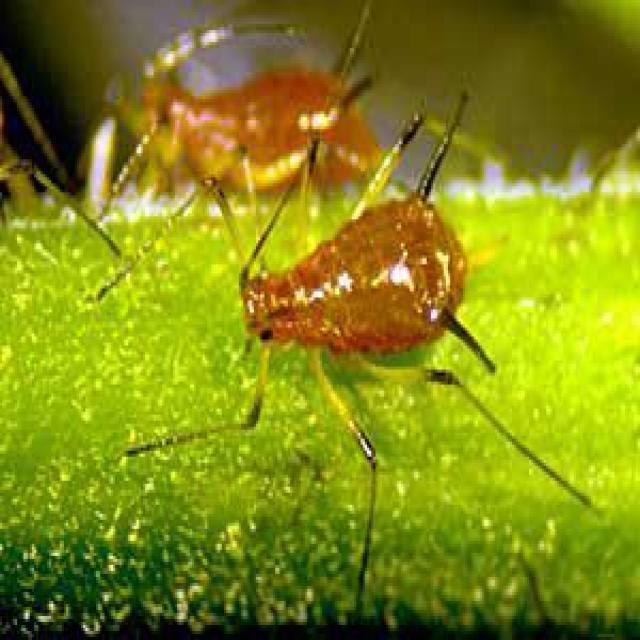aphid: (238, 184, 498, 412), (126, 30, 420, 180)
